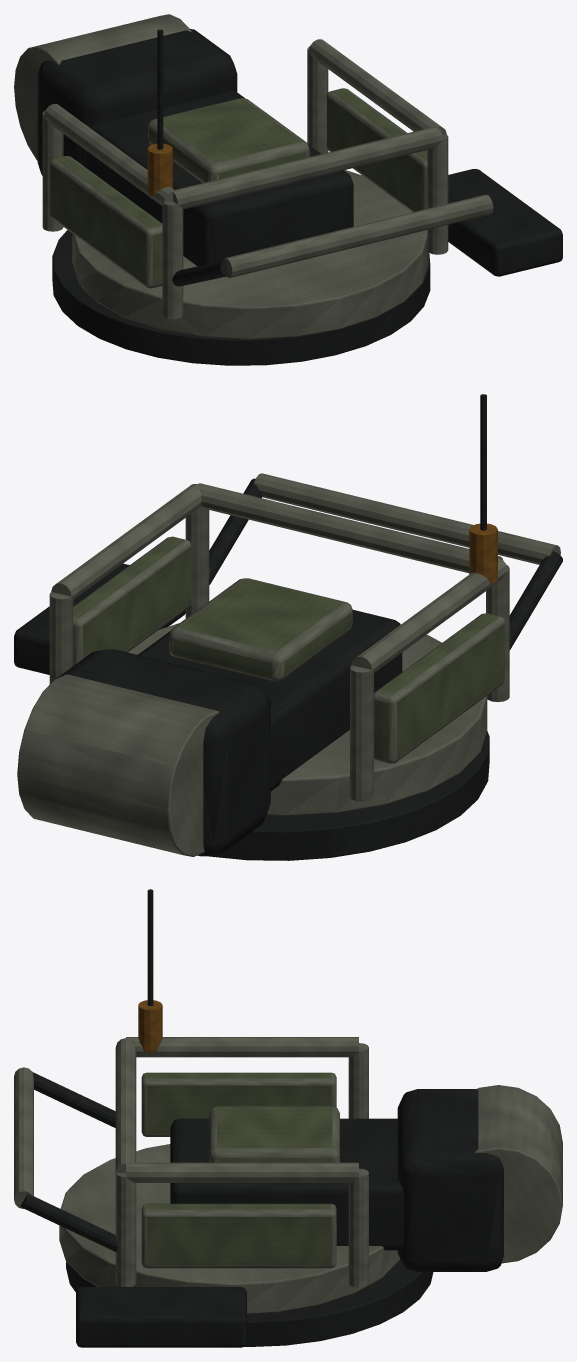
The model's file is jackal-turret.fbx.
3 views of the same model, one above another, from view 1: azimuth 30°, elevation 25°; view 2: azimuth 150°, elevation 25°; view 3: azimuth 270°, elevation 25° (orthographic). The views are drawn at different scales.
Parts seen in each view (by area): view 1: jackal-turret_Edge, jackal-turret_Steel, jackal-turret_Armor, jackal-turret_Brass; view 2: jackal-turret_Edge, jackal-turret_Steel, jackal-turret_Armor, jackal-turret_Brass; view 3: jackal-turret_Steel, jackal-turret_Edge, jackal-turret_Armor, jackal-turret_Brass.
Part boxes in pixels (bbox=[...]): jackal-turret_Edge: bbox=[14, 14, 493, 339]; jackal-turret_Steel: bbox=[37, 29, 562, 365]; jackal-turret_Armor: bbox=[50, 88, 427, 288]; jackal-turret_Brass: bbox=[147, 143, 172, 196]; jackal-turret_Edge: bbox=[17, 473, 560, 856]; jackal-turret_Steel: bbox=[14, 394, 562, 860]; jackal-turret_Armor: bbox=[73, 536, 505, 763]; jackal-turret_Brass: bbox=[469, 523, 497, 583]; jackal-turret_Steel: bbox=[20, 889, 503, 1347]; jackal-turret_Edge: bbox=[14, 1037, 562, 1314]; jackal-turret_Armor: bbox=[141, 1072, 339, 1268]; jackal-turret_Brass: bbox=[138, 1000, 162, 1052].
Size of the model in its own units: 201 by 158 by 248.
Materials: 4 (4 with a texture image).
